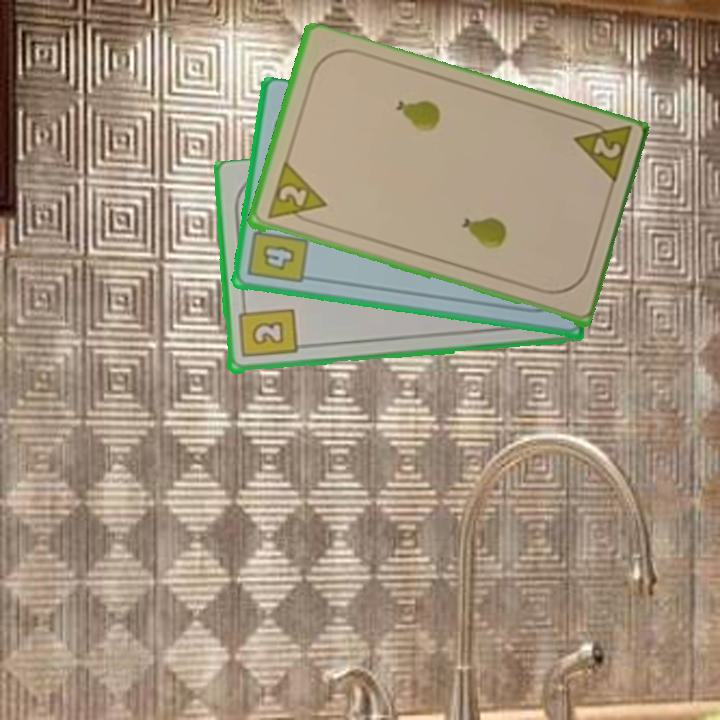2b: (234, 300, 299, 361)
2p: (568, 115, 634, 190), (263, 161, 329, 227)
4b: (244, 218, 311, 286)
